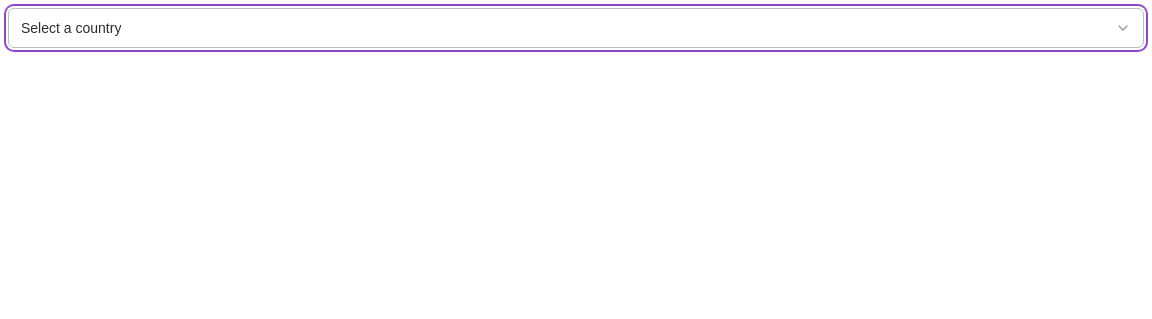
Test case: Select › search › shows SelectEmpty only when nothing matches
The image size is (1152, 319).
Press Enter
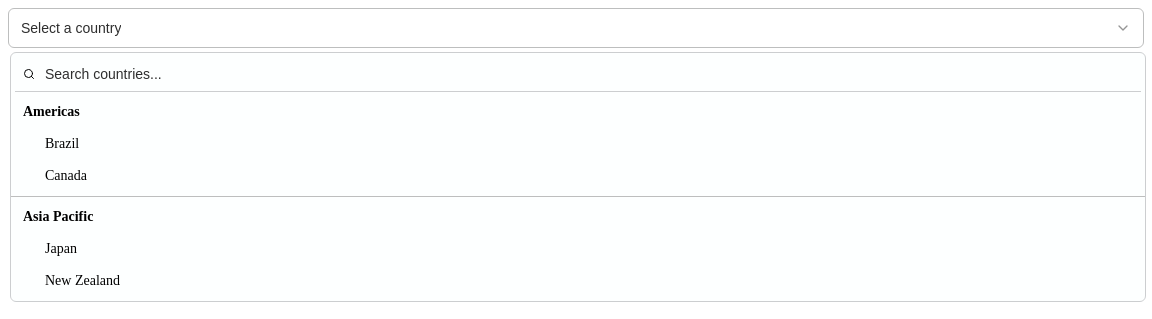
Expected: the text "No countries found" is not shown
Type "zzz" into the search field at (588, 74), box [43,63,1133,85]
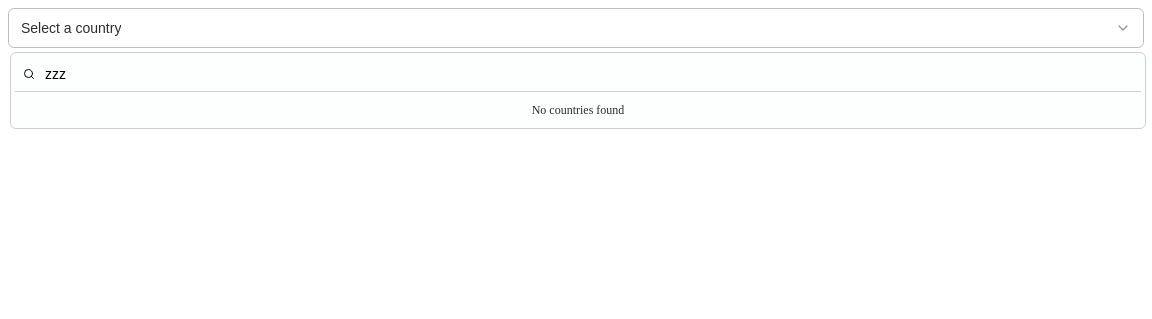
Expected: the text "No countries found" is shown, [532,103,624,117]
